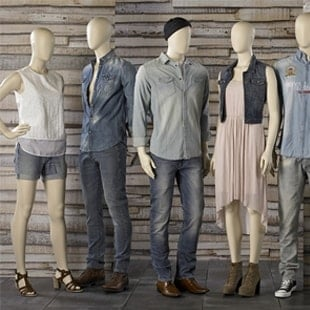person-like: (127, 12, 212, 299), (1, 24, 86, 299), (72, 15, 148, 296), (208, 19, 283, 301), (273, 10, 310, 303)
